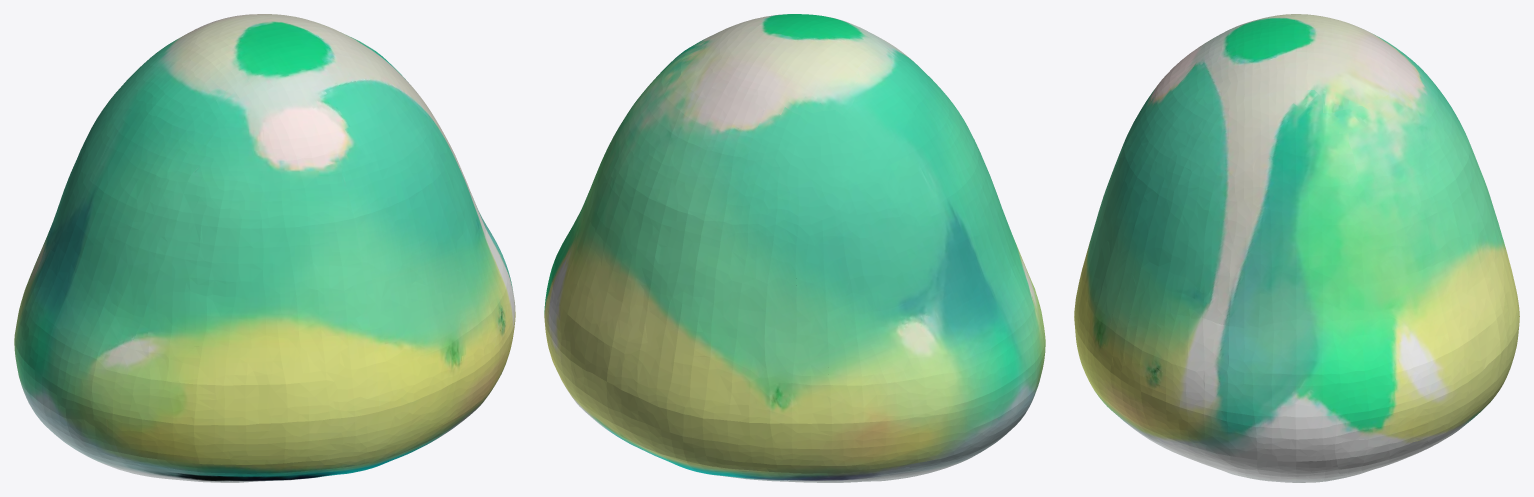
Rendered from slime.glb.
3 views of the same model, side by side, from view 1: azimuth 30°, elevation 25°; view 2: azimuth 150°, elevation 25°; view 3: azimuth 270°, elevation 25° (orthographic). The views are drawn at different scales.
Parts seen in each view (by area): view 1: geometry_0; view 2: geometry_0; view 3: geometry_0.
Boxes of the visible parts, x1,y1,x2,y2 form: geometry_0: (14, 14, 515, 482); geometry_0: (544, 14, 1045, 482); geometry_0: (1074, 14, 1519, 482).
Size of the model in its own units: 0.7194 by 0.6 by 0.6402.
Materials: 1 (1 with a texture image).
